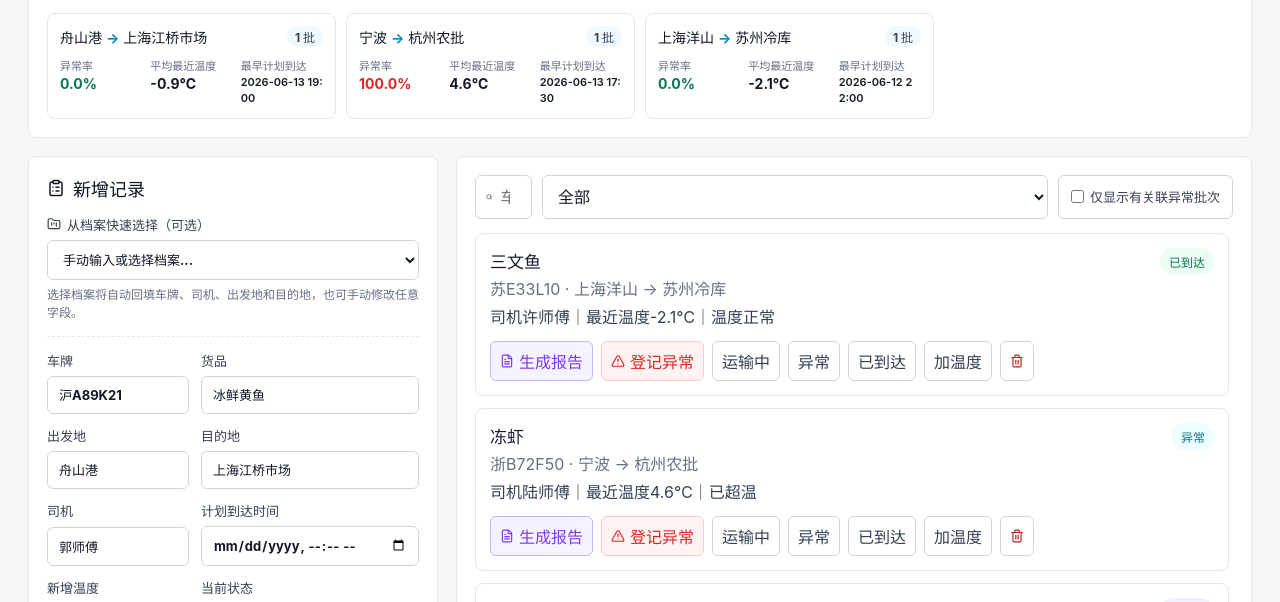
it: App 冒烟测试 - 核心页面路径 › 报告生成 › 点击生成报告弹出报告模态框
(page scrolled)
What coordinates should you click on to do the following:
click the 1st button "生成报告"
I would click on:
 (542, 361)
Its box is [490,341,593,381].
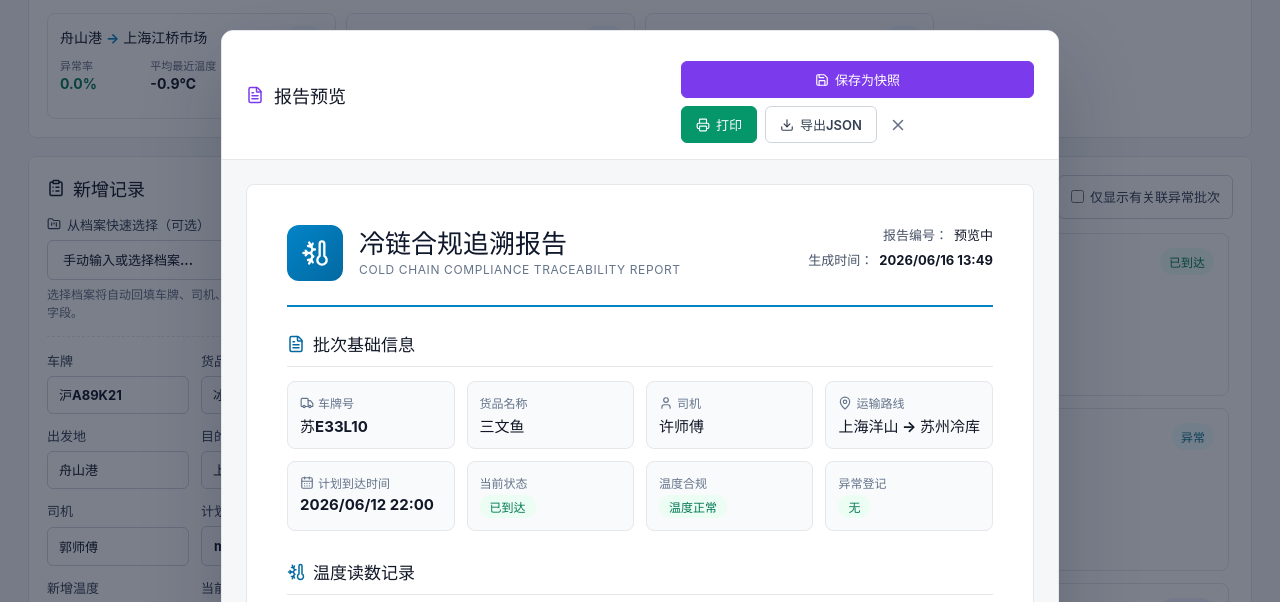
Check: the heading "冷链合规追溯报告" is shown, box [359,228,567,258]
